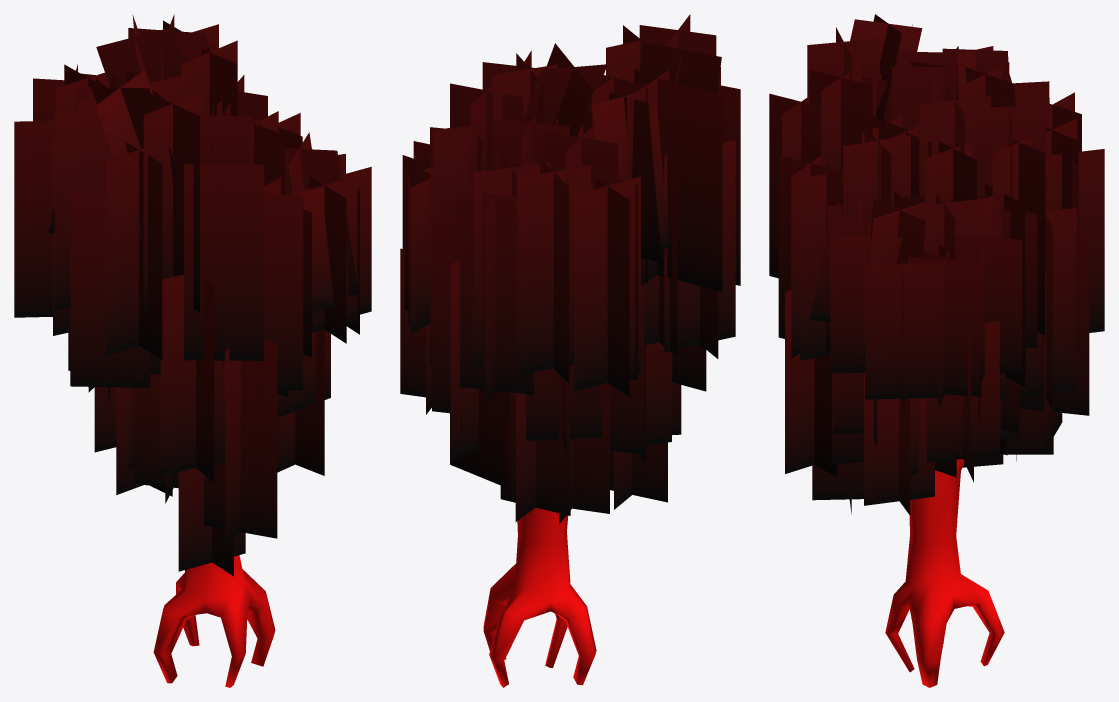
File: Medium_Willow_Tree.fbx
3 renders of one model, left to right at view 1: azimuth 30°, elevation 25°; view 2: azimuth 150°, elevation 25°; view 3: azimuth 270°, elevation 25°, orthographic. The views are drawn at different scales.
Parts seen in each view (by area): view 1: SM_Tree_Willow_Medium_01; view 2: SM_Tree_Willow_Medium_01; view 3: SM_Tree_Willow_Medium_01.
Boxes of the visible parts, x1,y1,x2,y2 form: SM_Tree_Willow_Medium_01: (14,14,371,687); SM_Tree_Willow_Medium_01: (400,14,740,687); SM_Tree_Willow_Medium_01: (769,14,1104,687).
Bounding box in the file's own units: 336 × 668 × 336.
